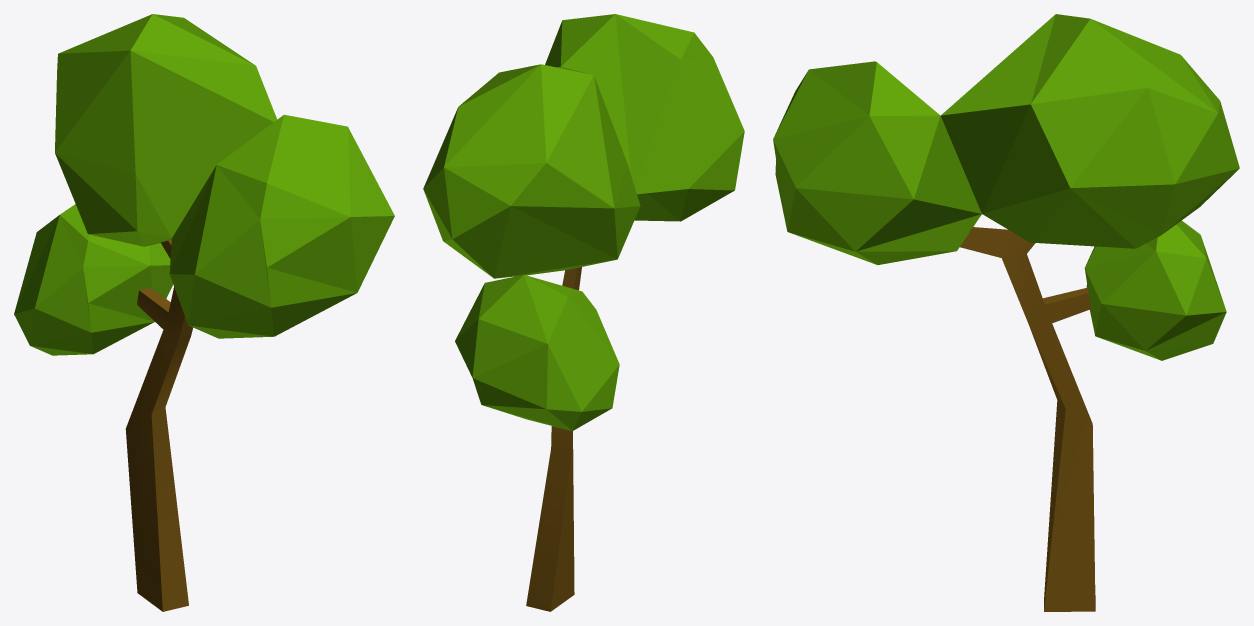
Rendered from tree.glb.
3 renders of one model, left to right at view 1: azimuth 30°, elevation 25°; view 2: azimuth 150°, elevation 25°; view 3: azimuth 270°, elevation 25°, orthographic. The views are drawn at different scales.
Visible parts, largest first — view 1: leaves, tree; view 2: leaves, tree; view 3: leaves, tree.
Boxes of the visible parts, x1,y1,x2,y2 form: leaves: [14, 14, 394, 355]; tree: [125, 240, 192, 611]; leaves: [423, 14, 744, 430]; tree: [526, 267, 581, 611]; leaves: [773, 14, 1239, 360]; tree: [960, 227, 1095, 611].
Bounding box in the file's own units: 2.45 × 6.56 × 4.73.
